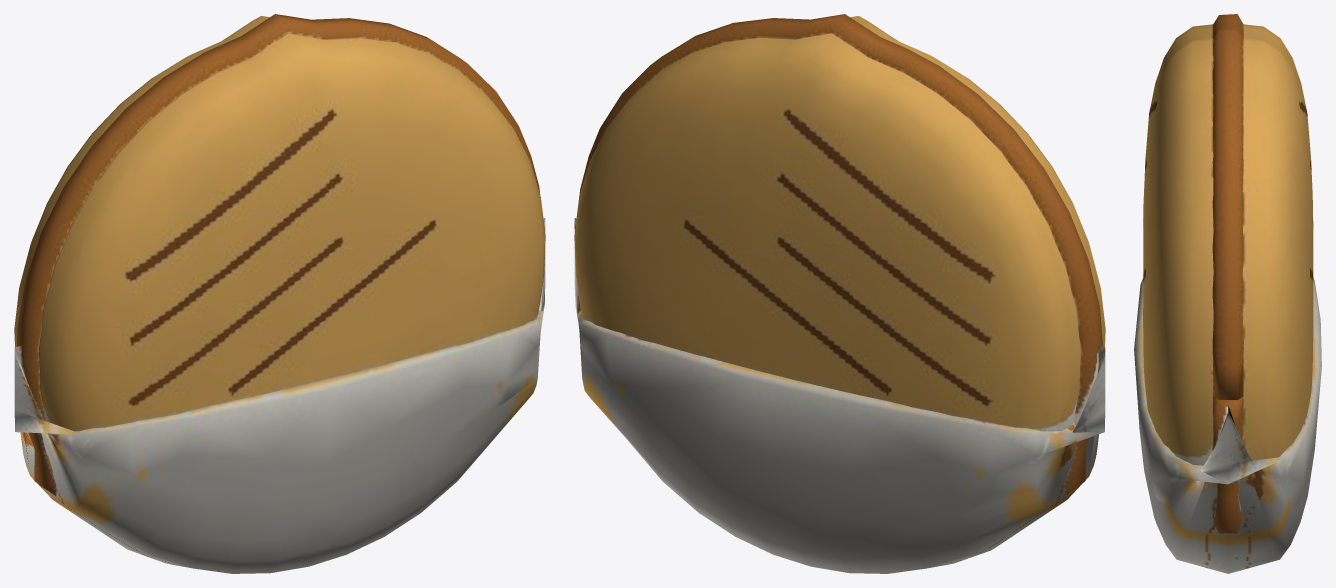
The model's file is hotsand.glb.
3 views of the same model, side by side, from view 1: azimuth 30°, elevation 25°; view 2: azimuth 150°, elevation 25°; view 3: azimuth 270°, elevation 25° (orthographic). The views are drawn at different scales.
Parts seen in each view (by area): view 1: prop_hotsand_felt; view 2: prop_hotsand_felt; view 3: prop_hotsand_felt.
Part boxes in pixels (left/top/right/bottom): prop_hotsand_felt: left=14, top=14, right=545, bottom=573; prop_hotsand_felt: left=574, top=14, right=1105, bottom=573; prop_hotsand_felt: left=1134, top=14, right=1321, bottom=573.
Size of the model in its own units: 0.1686 by 0.1653 by 0.0546.
Materials: 1 (1 with a texture image).
